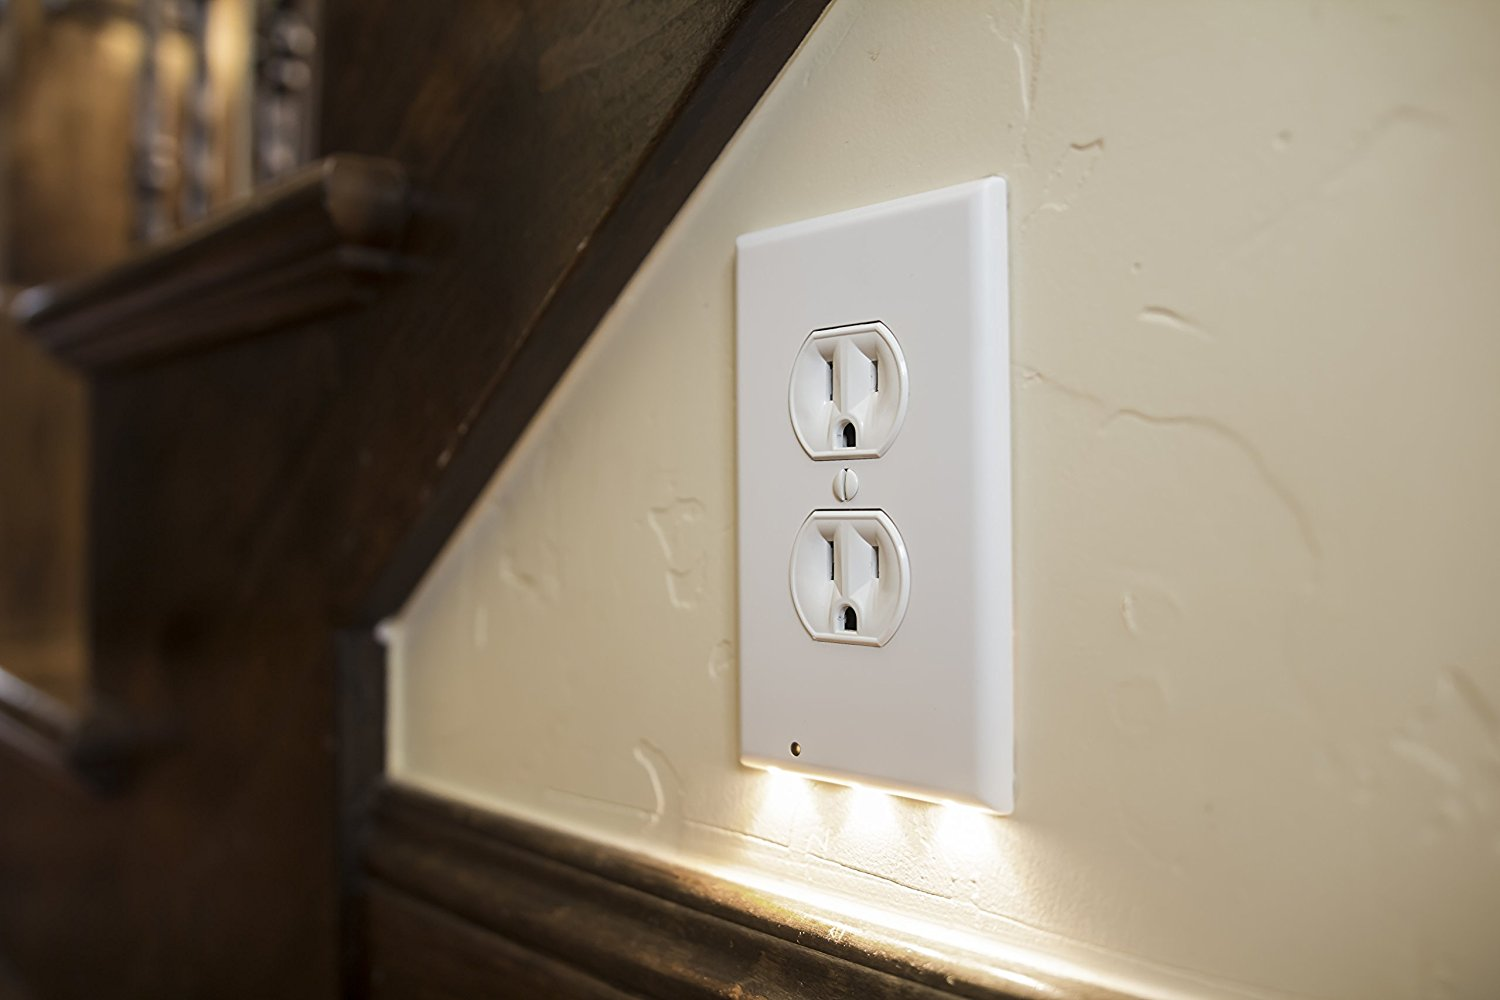outlet: (807, 520, 893, 652), (804, 342, 893, 455)
